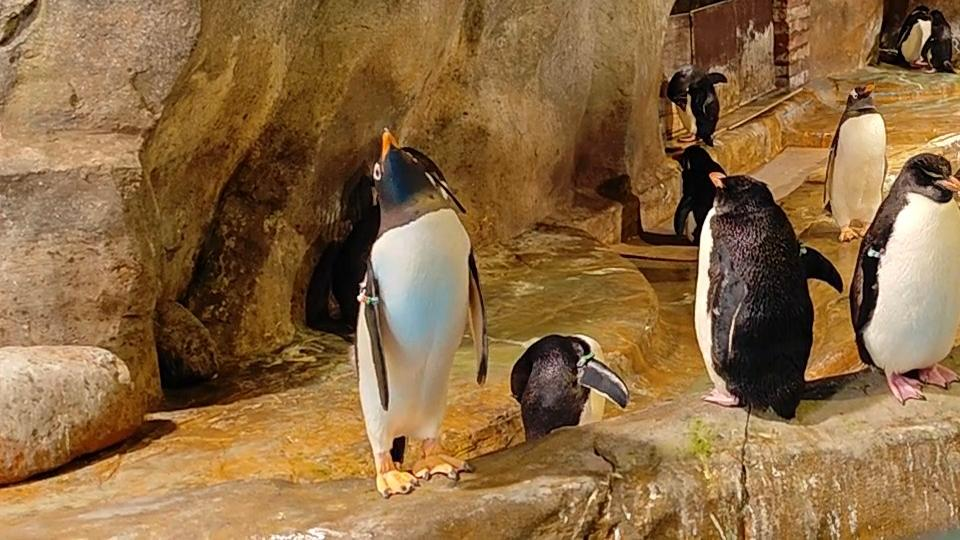Southern Rockhopper Penguin: (679, 164, 845, 423), (847, 150, 960, 411), (498, 329, 644, 459), (661, 139, 737, 243), (666, 60, 736, 151), (917, 1, 960, 75), (890, 0, 935, 70)
